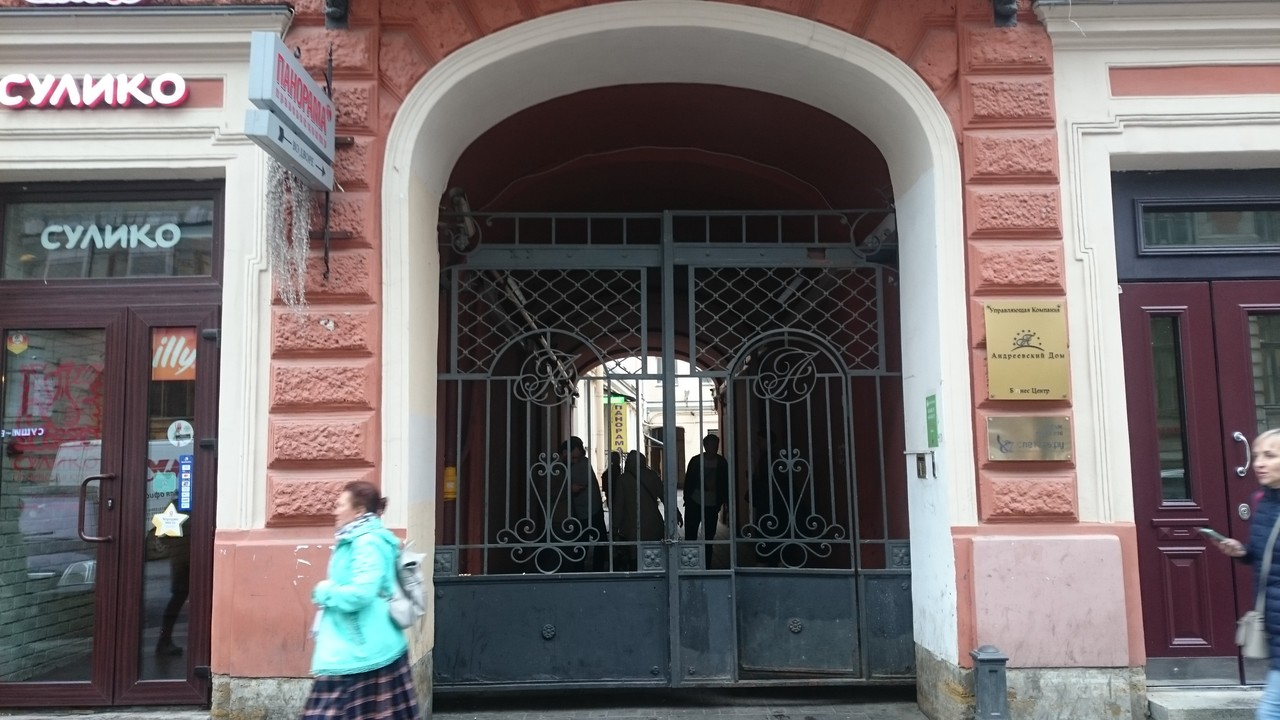arch: (411, 25, 927, 716)
cantilever: (241, 21, 349, 264)
door: (1, 307, 127, 710)
signboard: (1, 73, 187, 107)
window: (1, 190, 224, 282)
